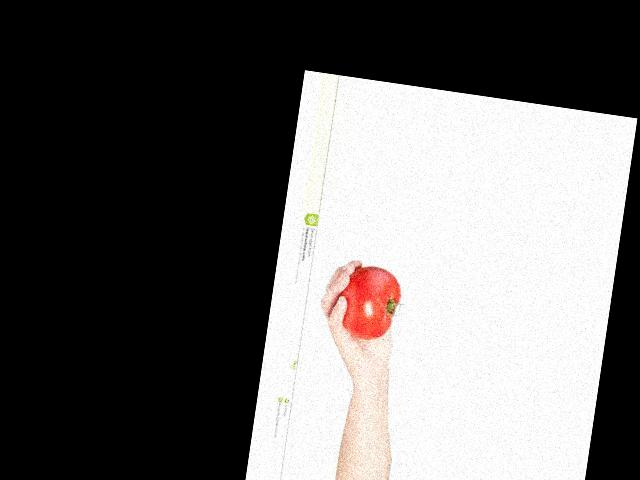tomato: (333, 262, 404, 344)
